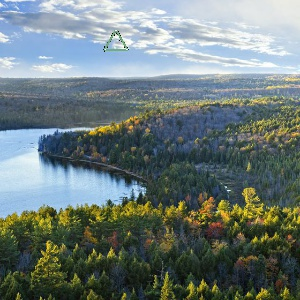triangle: (102, 26, 130, 52)
